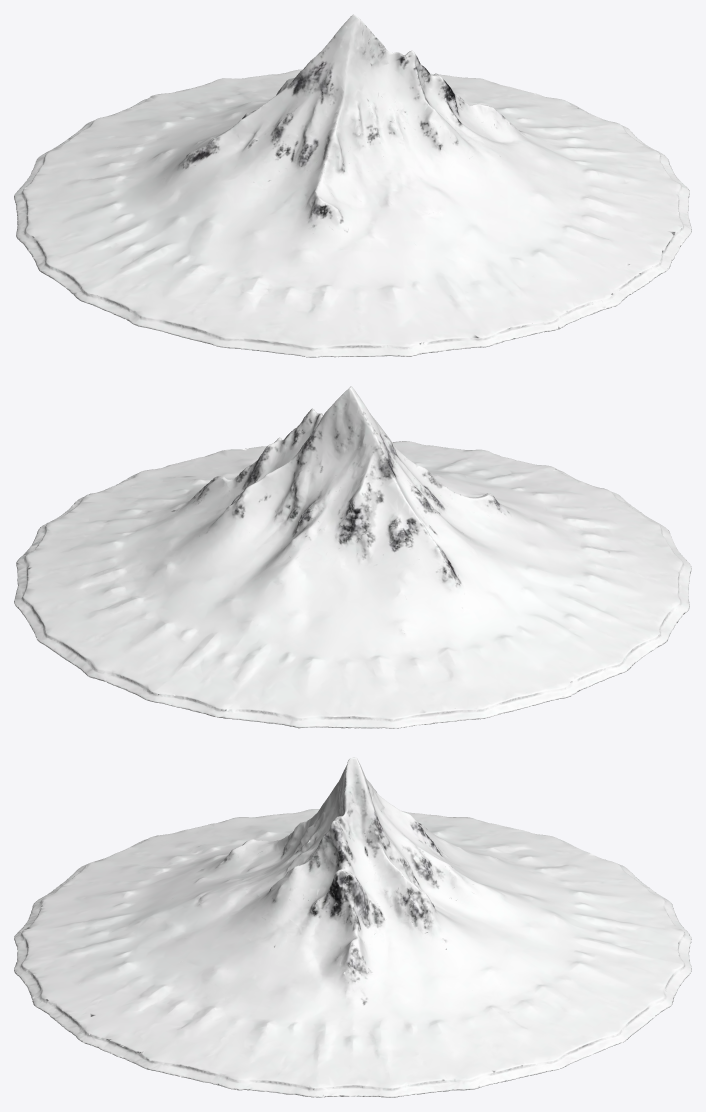
The model's file is peak.glb.
3 renders of one model, top to bottom at view 1: azimuth 30°, elevation 25°; view 2: azimuth 150°, elevation 25°; view 3: azimuth 270°, elevation 25°, orthographic.
Visible parts, largest first — view 1: Mesh_0; view 2: Mesh_0; view 3: Mesh_0.
Part boxes in pixels (x1,y1,x2,y2): Mesh_0: [14, 14, 691, 357]; Mesh_0: [14, 386, 691, 728]; Mesh_0: [14, 757, 691, 1097].
Size of the model in its own units: 1.9 by 0.6159 by 1.9.
1 material, 1 textured.
